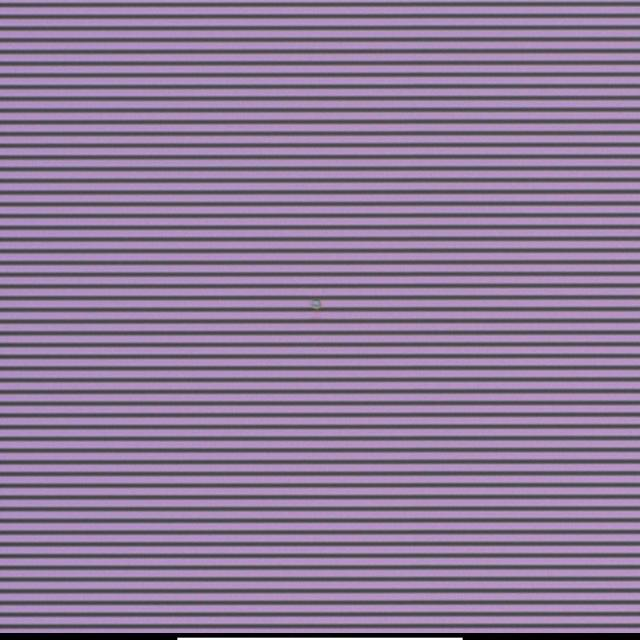03_intrusion: (309, 296, 324, 312)
